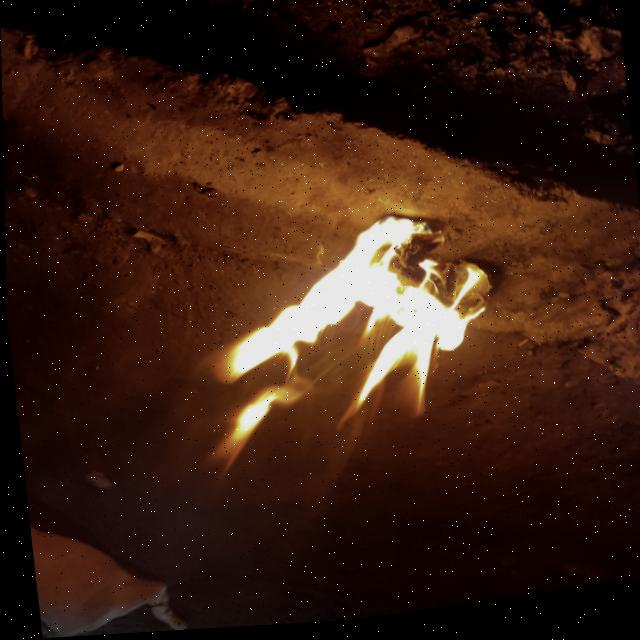Fire: (177, 206, 507, 481)
